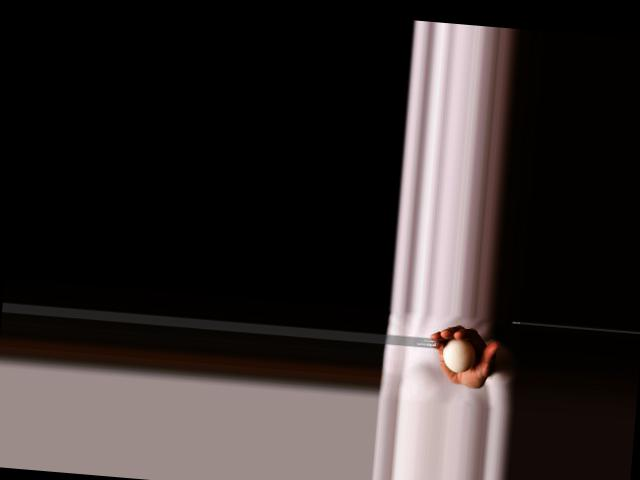egg: (441, 336, 477, 373)
